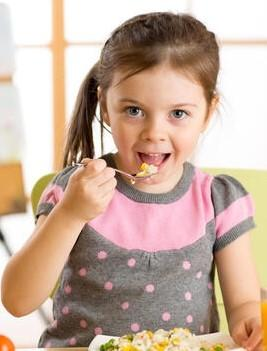Healthy: (83, 6, 229, 199)
